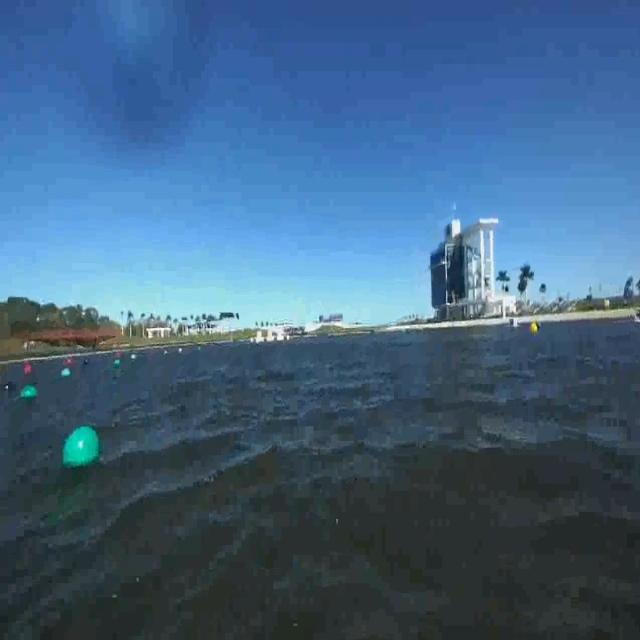green-buoy: (62, 427, 101, 471), (23, 385, 38, 400)
yellow-buoy: (533, 323, 542, 338)
